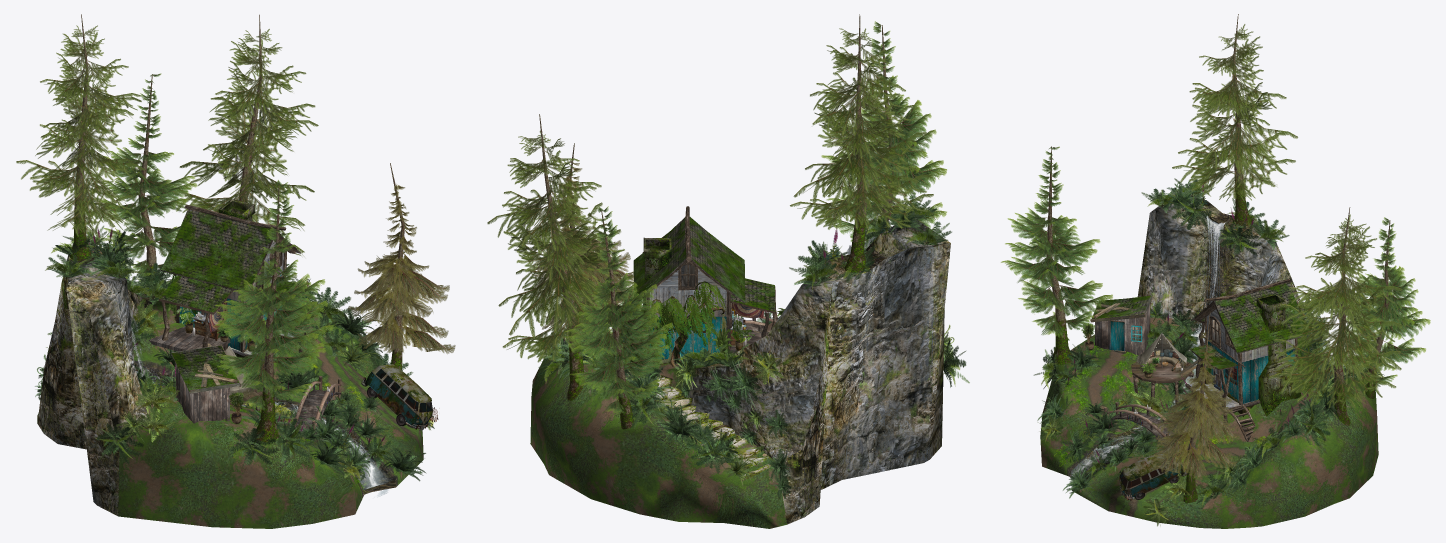
The picture shows the model from 3 angles, left to right: view 1: azimuth 30°, elevation 25°; view 2: azimuth 150°, elevation 25°; view 3: azimuth 270°, elevation 25°; orthographic projection. The views are drawn at different scales.
Parts seen in each view (by area): view 1: SM_Groundplane, spruce_1.001, spruce_2.002, spruce_1.002, spruce_3.001, spruce_2.001, roof, SideBuilding, VW_Bus, roof.002, SM_Bridge, fern_2.014 (+19 smaller); view 2: SM_Groundplane, spruce_1.002, spruce_1.001, spruce_2.001, spruce_2.002, roof, SM_MamasTree, SM_MainBuilding, spruce_3.001, SM_stone_stairs, fern_2.002, chimney (+10 smaller); view 3: SM_Groundplane, spruce_1.002, spruce_1.001, spruce_2.002, spruce_3.001, spruce_2.001, roof, SideBuilding, chimney, SM_MainBuilding, VW_Bus, SM_Bridge (+14 smaller).
Boxes of the visible parts, bbox=[...] form: SM_Groundplane: bbox=[37, 246, 423, 528]; spruce_1.001: bbox=[16, 14, 144, 260]; spruce_2.002: bbox=[213, 180, 333, 442]; spruce_1.002: bbox=[167, 14, 318, 255]; spruce_3.001: bbox=[347, 163, 455, 370]; spruce_2.001: bbox=[98, 73, 197, 278]; roof: bbox=[161, 209, 300, 290]; SideBuilding: bbox=[171, 344, 240, 423]; VW_Bus: bbox=[361, 364, 434, 430]; roof.002: bbox=[158, 275, 233, 314]; SM_Bridge: bbox=[293, 376, 341, 434]; fern_2.014: bbox=[229, 428, 278, 469]; SM_Groundplane: bbox=[530, 220, 950, 528]; spruce_1.002: bbox=[487, 114, 634, 400]; spruce_1.001: bbox=[790, 14, 933, 272]; spruce_2.001: bbox=[564, 206, 673, 429]; spruce_2.002: bbox=[821, 21, 946, 249]; roof: bbox=[633, 217, 745, 302]; SM_MamasTree: bbox=[641, 281, 726, 366]; SM_MainBuilding: bbox=[646, 265, 726, 359]; spruce_3.001: bbox=[529, 143, 633, 334]; SM_stone_stairs: bbox=[648, 375, 771, 481]; fern_2.002: bbox=[686, 426, 735, 473]; chimney: bbox=[630, 237, 671, 362]; SM_Groundplane: bbox=[1040, 194, 1378, 528]; spruce_1.002: bbox=[1268, 207, 1402, 425]; spruce_1.001: bbox=[1172, 14, 1297, 226]; spruce_2.002: bbox=[1001, 146, 1112, 364]; spruce_3.001: bbox=[1151, 312, 1240, 503]; spruce_2.001: bbox=[1346, 217, 1430, 398]; roof: bbox=[1191, 282, 1310, 353]; SideBuilding: bbox=[1090, 295, 1152, 355]; chimney: bbox=[1256, 293, 1301, 416]; SM_MainBuilding: bbox=[1206, 309, 1295, 403]; VW_Bus: bbox=[1119, 448, 1186, 499]; SM_Bridge: bbox=[1104, 402, 1177, 446].
Bounding box in the file's own units: 24.4 × 27.19 × 27.06.
Materials: 32 (32 with a texture image).
